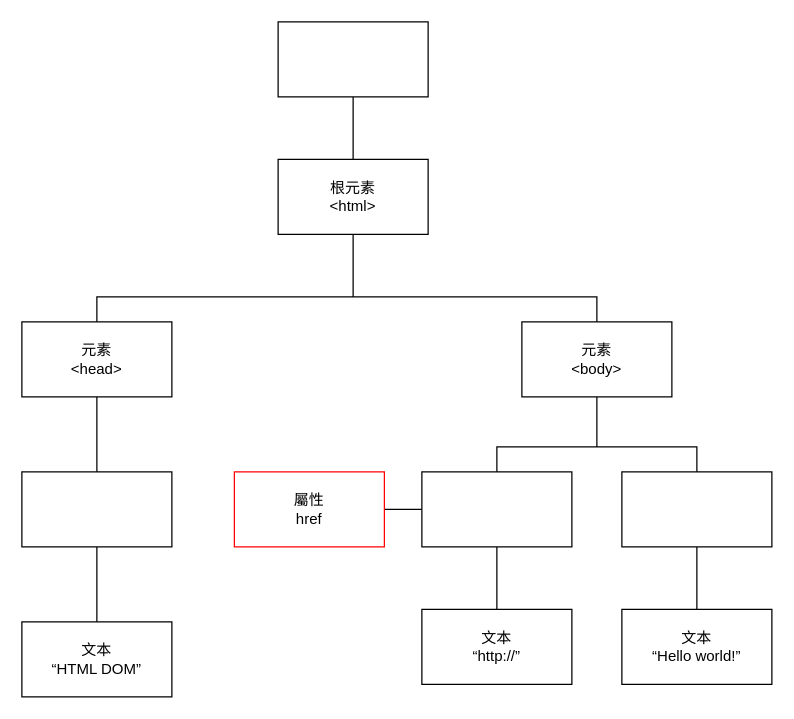
The diagram is 794 pixels wide and 719 high, and some of its shapes have lost their labels. Here are the shapes that lost their labels. From the top down, the box of each, then its label:
(277, 21, 428, 97): 文檔
(21, 471, 172, 547): 元素 <title>
(421, 471, 572, 547): 元素 <a>
(621, 471, 772, 547): 元素 <h1>
